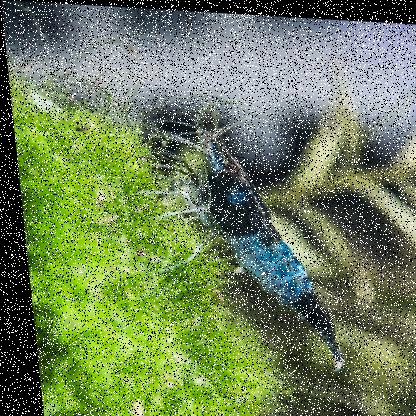shrimp: (154, 101, 336, 368)
